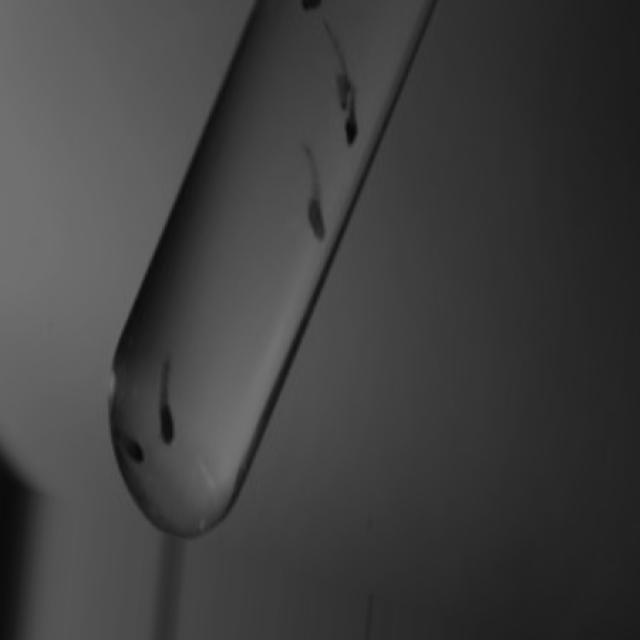larvas: (300, 145, 323, 236), (327, 26, 350, 98), (160, 359, 176, 440), (118, 427, 146, 459), (345, 88, 359, 142)
